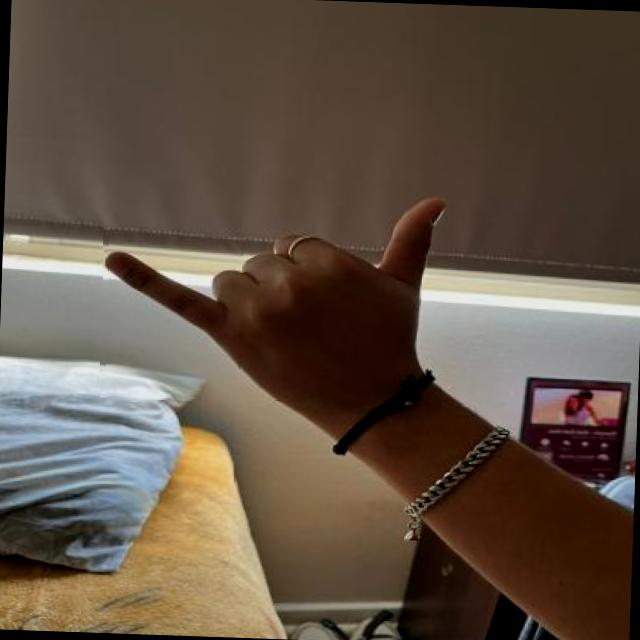Y: (97, 178, 449, 410)
